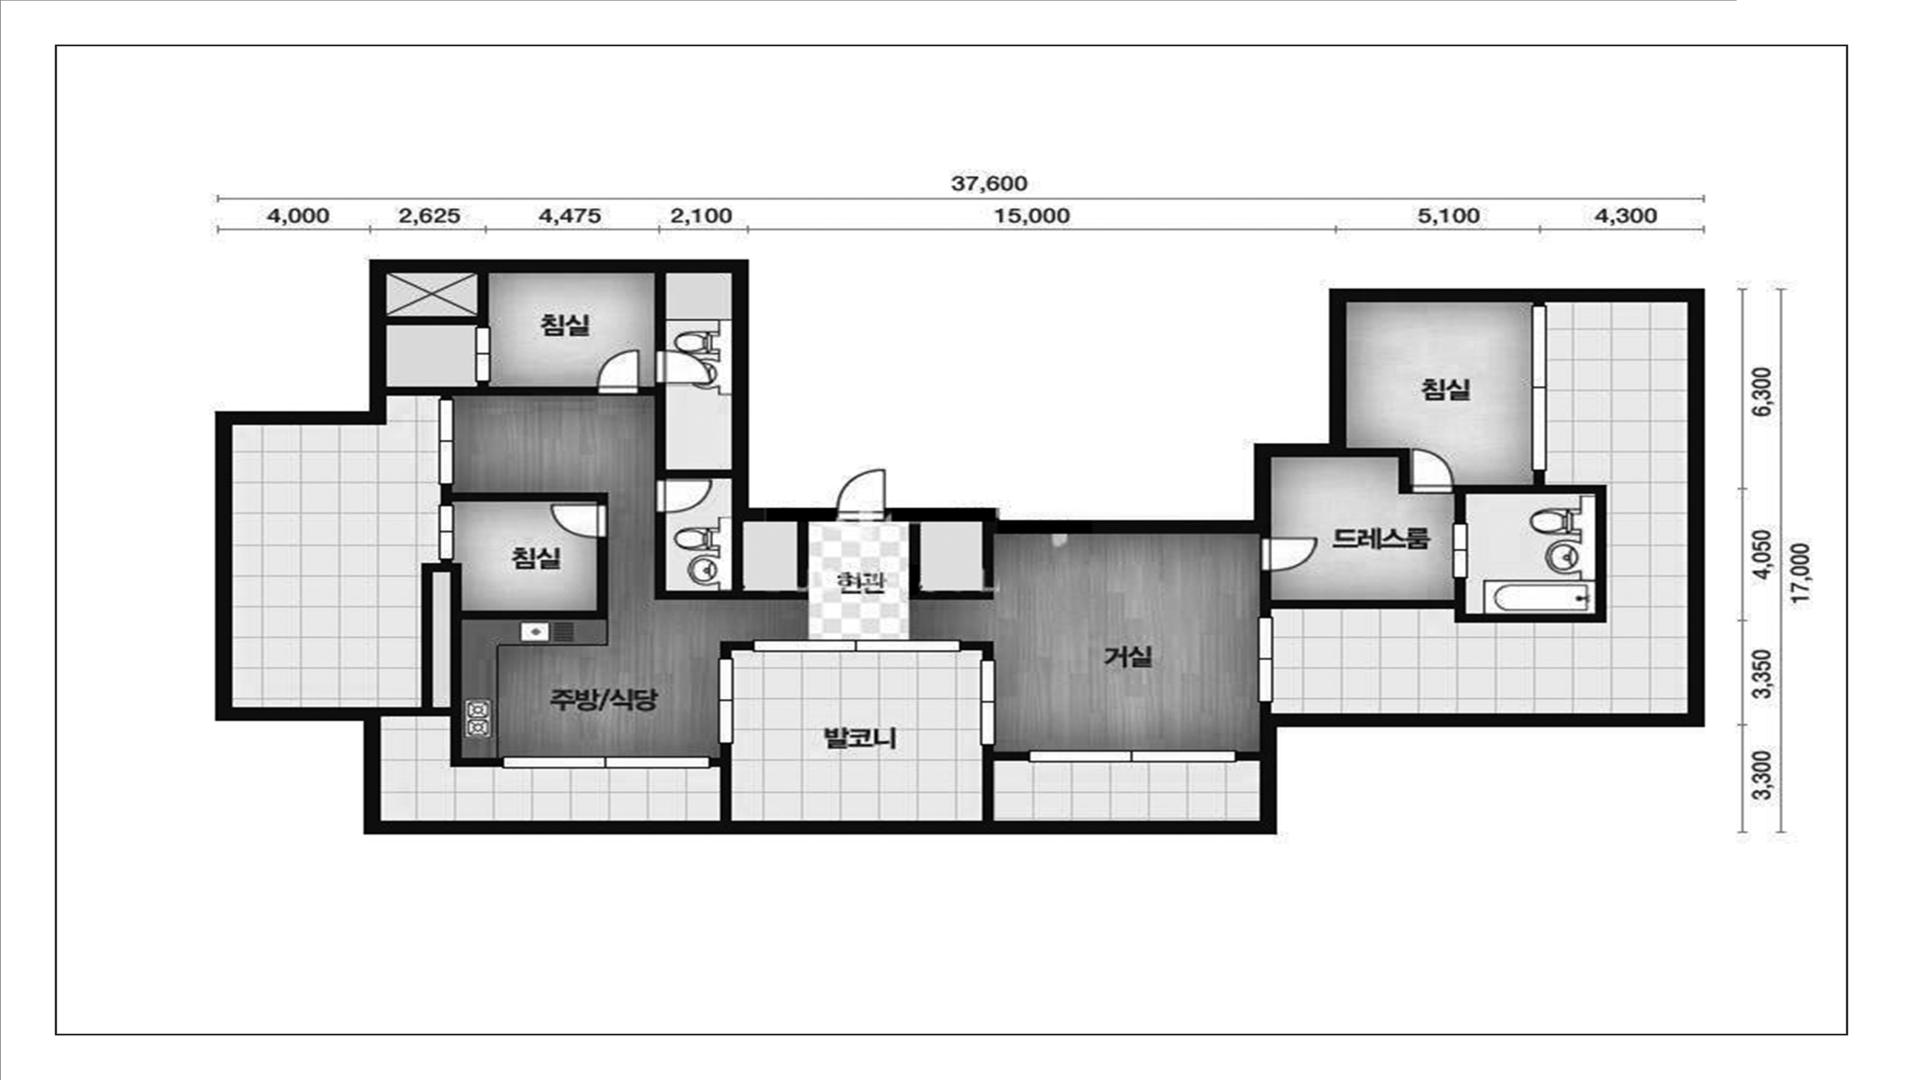door: (836, 468, 886, 521), (1259, 537, 1317, 572), (550, 504, 608, 538), (654, 479, 712, 513), (1411, 448, 1455, 493), (597, 349, 640, 396), (655, 351, 712, 382), (1452, 522, 1468, 580)
wall: (215, 260, 1705, 833), (1259, 472, 1606, 622), (381, 538, 608, 766), (654, 513, 808, 600), (640, 382, 732, 479), (910, 522, 994, 600), (386, 273, 489, 327), (982, 746, 1027, 822), (386, 382, 597, 398), (440, 485, 608, 504), (1346, 447, 1411, 495), (711, 745, 731, 822), (654, 273, 666, 351), (720, 641, 752, 658), (961, 641, 993, 658), (1237, 752, 1259, 760)
window: (1027, 749, 1237, 762), (502, 756, 711, 769), (1531, 305, 1547, 472), (752, 640, 961, 651), (438, 398, 455, 485), (980, 659, 996, 746), (717, 658, 733, 745), (1258, 616, 1274, 703), (475, 326, 491, 382), (439, 504, 454, 560)
